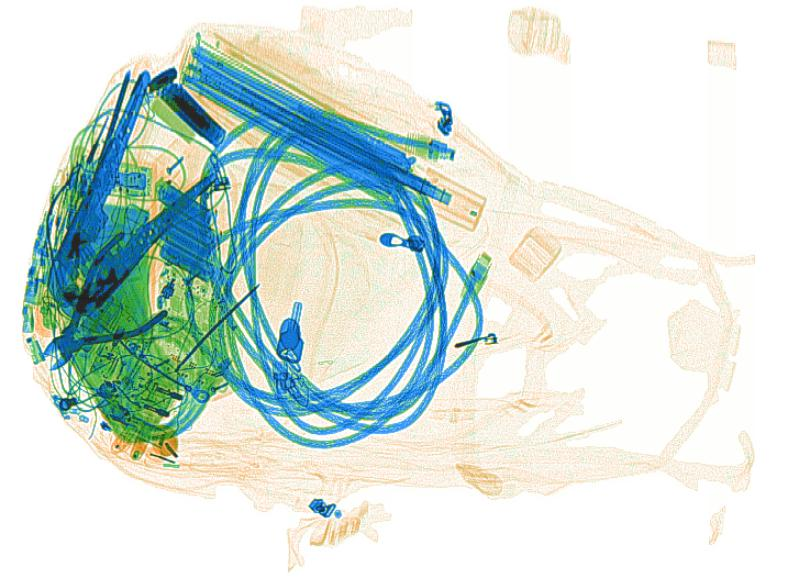battery: (155, 178, 217, 306), (158, 79, 227, 148)
